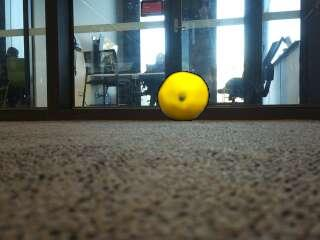lemon: (158, 72, 209, 121)
